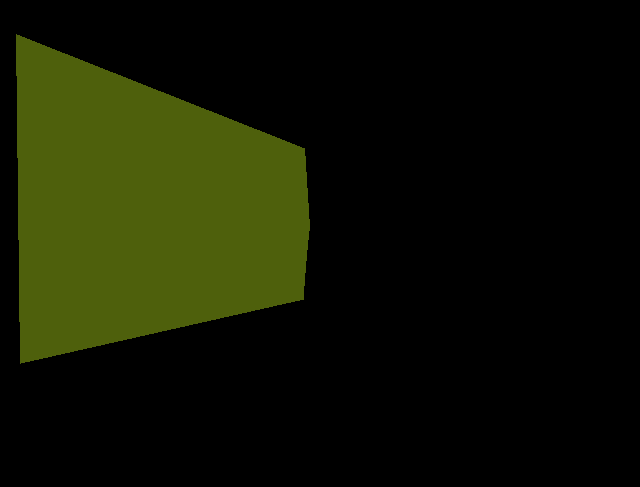Train: (16, 34, 310, 363)
